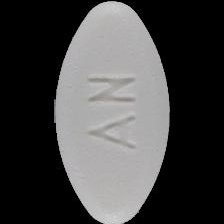42291-311: (0, 0, 224, 224)
